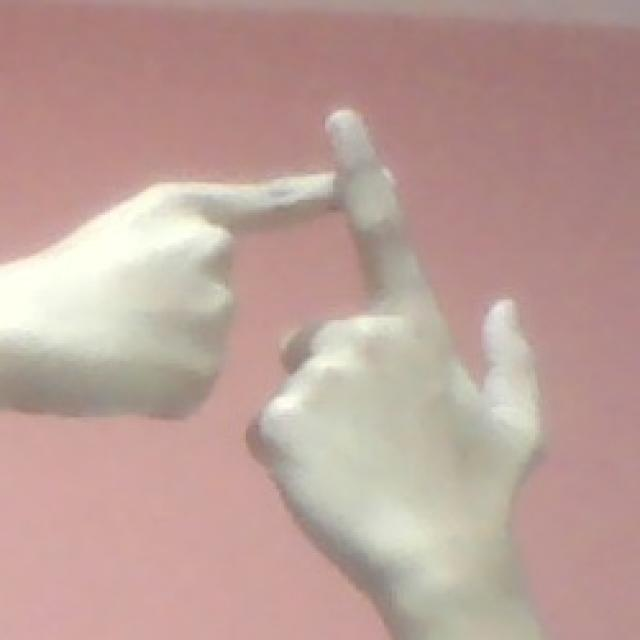Alphabet-J: (31, 89, 545, 596)
